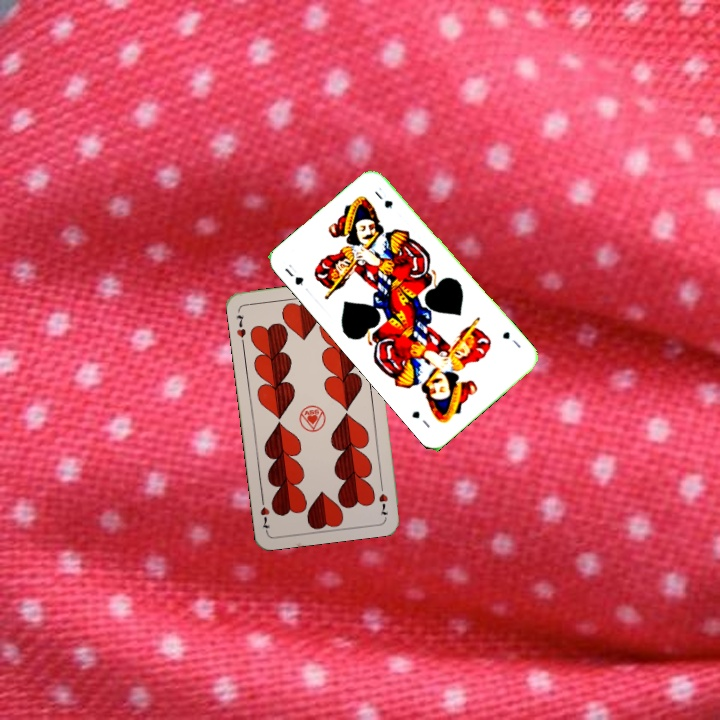GU: (280, 260, 306, 288), (498, 327, 523, 351)
H7: (375, 479, 391, 520), (232, 311, 249, 347)
